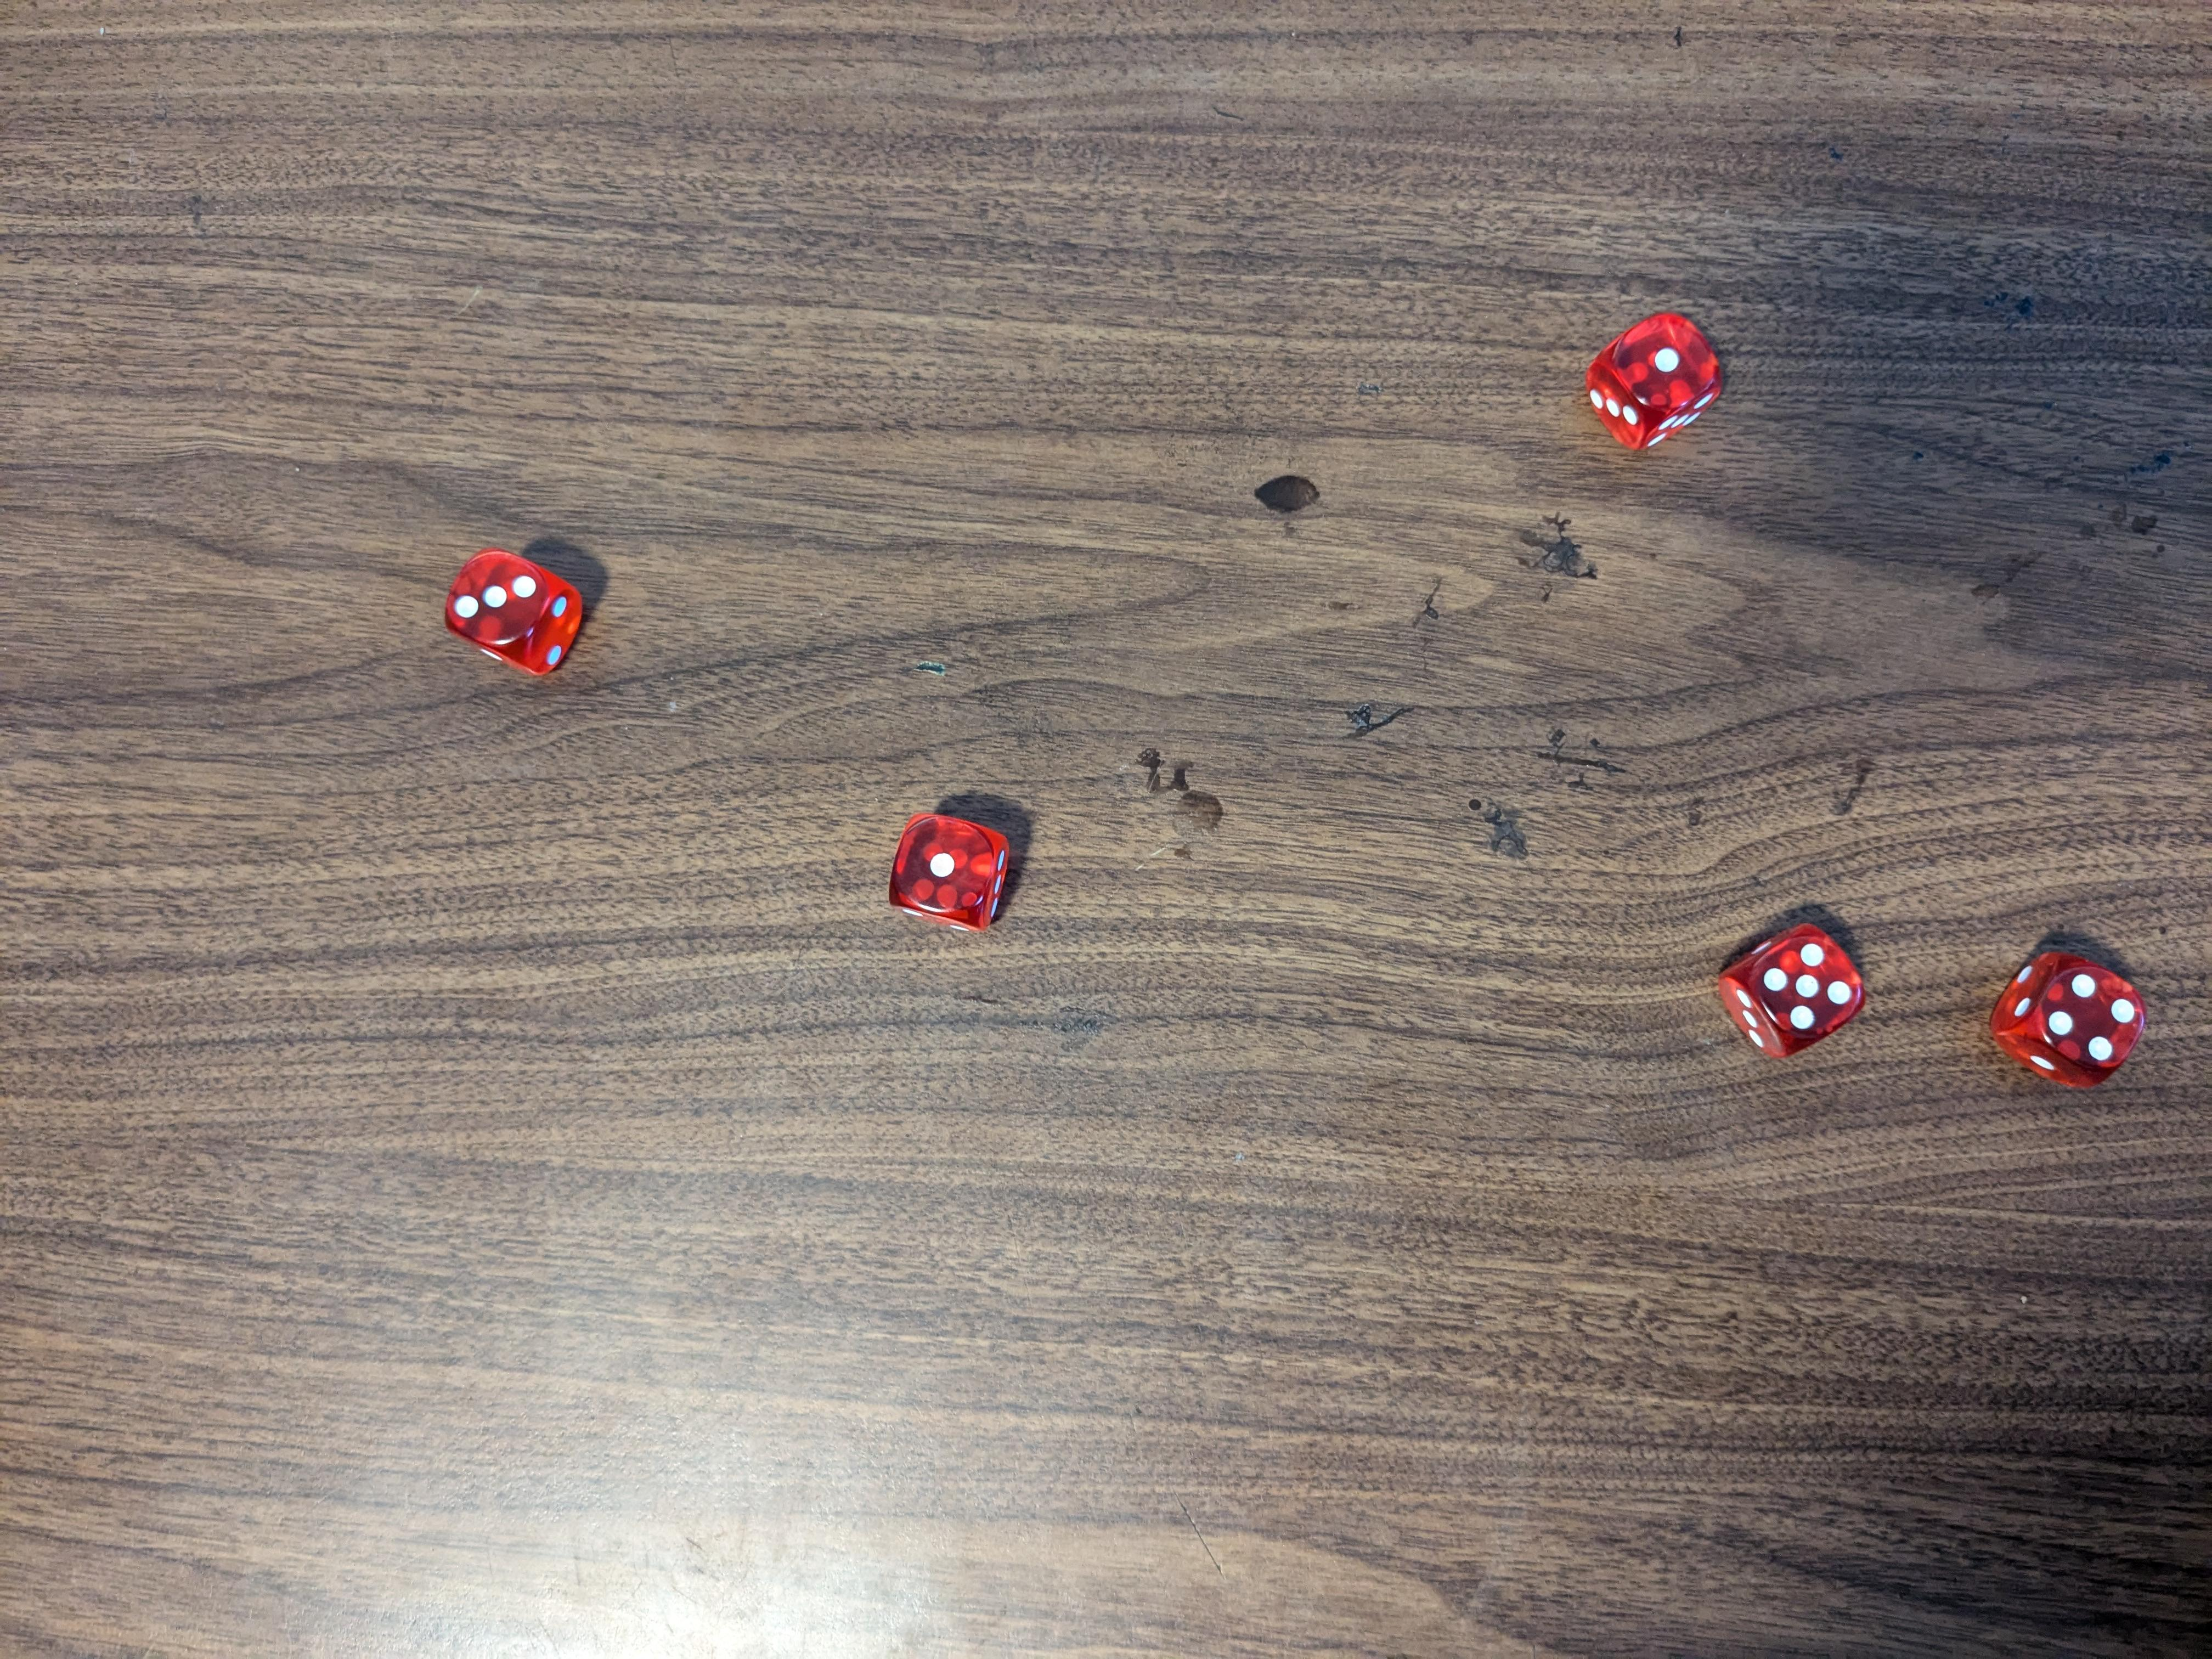five: (1709, 920, 1862, 1053)
four: (1987, 943, 2148, 1080)
one: (1581, 314, 1731, 450), (888, 810, 1010, 929)
three: (444, 549, 592, 680)
